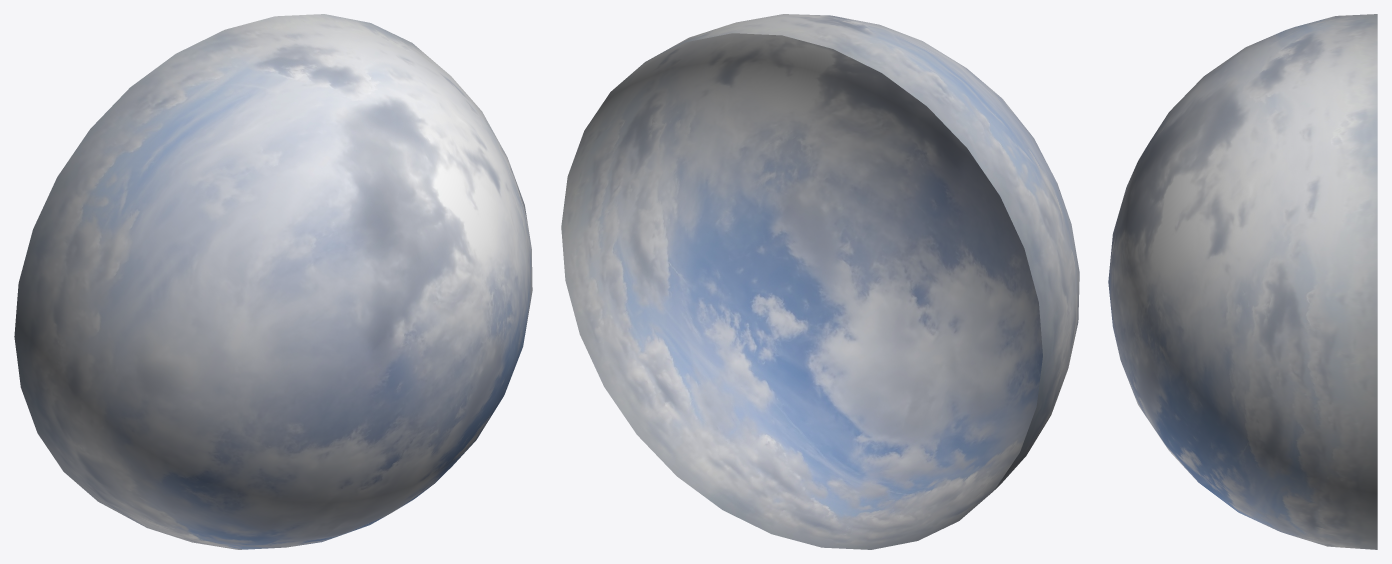
The model's file is sky_low_res.obj.
3 views of the same model, side by side, from view 1: azimuth 30°, elevation 25°; view 2: azimuth 150°, elevation 25°; view 3: azimuth 270°, elevation 25° (orthographic). The views are drawn at different scales.
Visible parts, largest first — view 1: cloudy; view 2: cloudy; view 3: cloudy.
Boxes of the visible parts, box(x1,y1,x2,y2) form: cloudy: box(14, 14, 532, 549); cloudy: box(561, 14, 1079, 549); cloudy: box(1108, 14, 1377, 549).
Size of the model in its own units: 200 by 199 by 100.
Materials: 1 (1 with a texture image).
